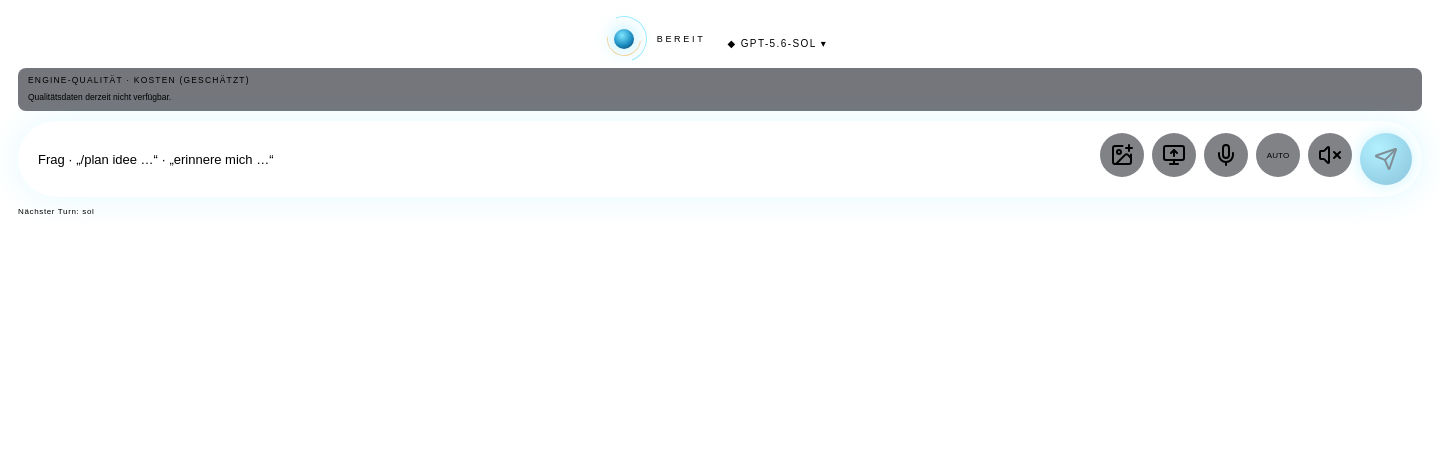
Test case: JarvisChat S3.6 — Vorlese-Toggle (/api/audio/speak) › TTS-Fehler wird best-effort geschluckt — die Antwort-Bubble erscheint trotzdem
The image size is (1440, 472).
Click the button named "Antworten vorlesen". click: click(1330, 155)
box: [1308,133,1352,177]
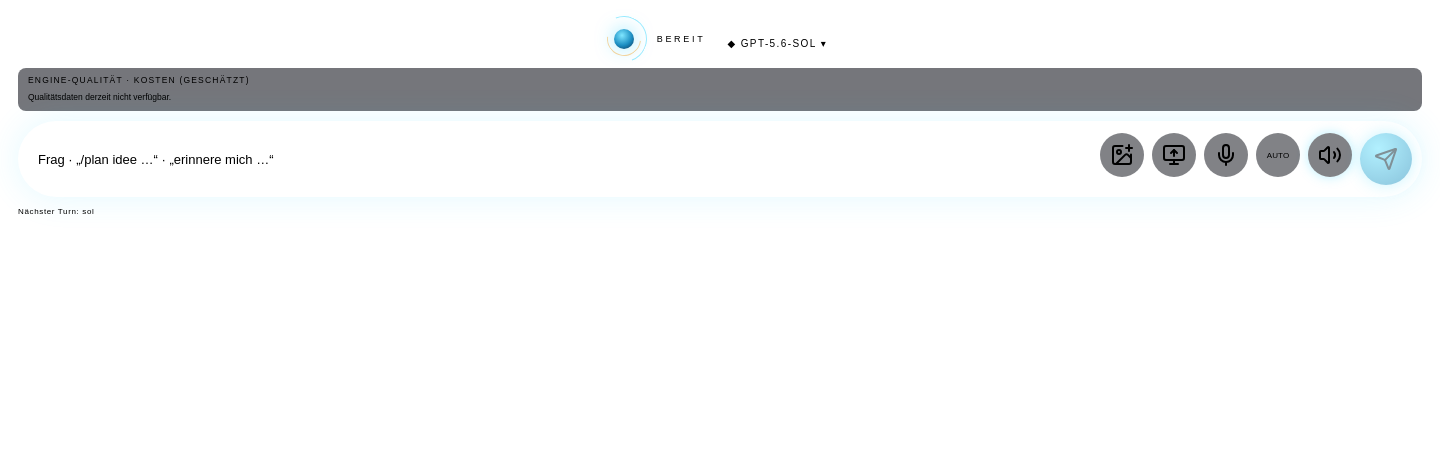
Type "frage" into the field named "Nachricht an Jarvis". click: (564, 159)
box: [38,137,1090,181]
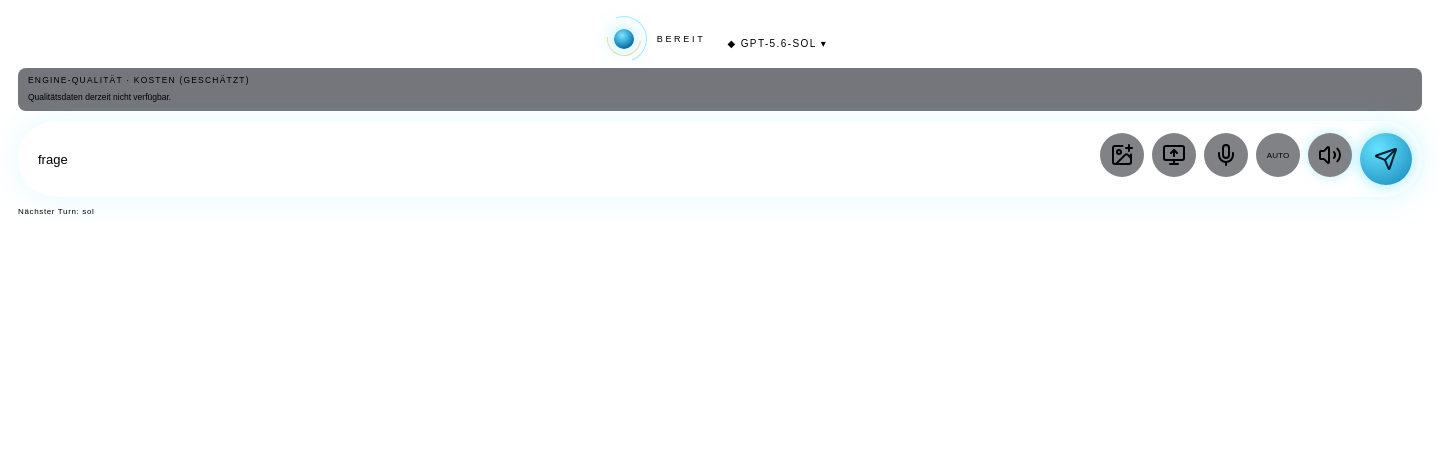
Click the button named "Nachricht senden". click: click(1386, 159)
box: [1360,133,1412,185]
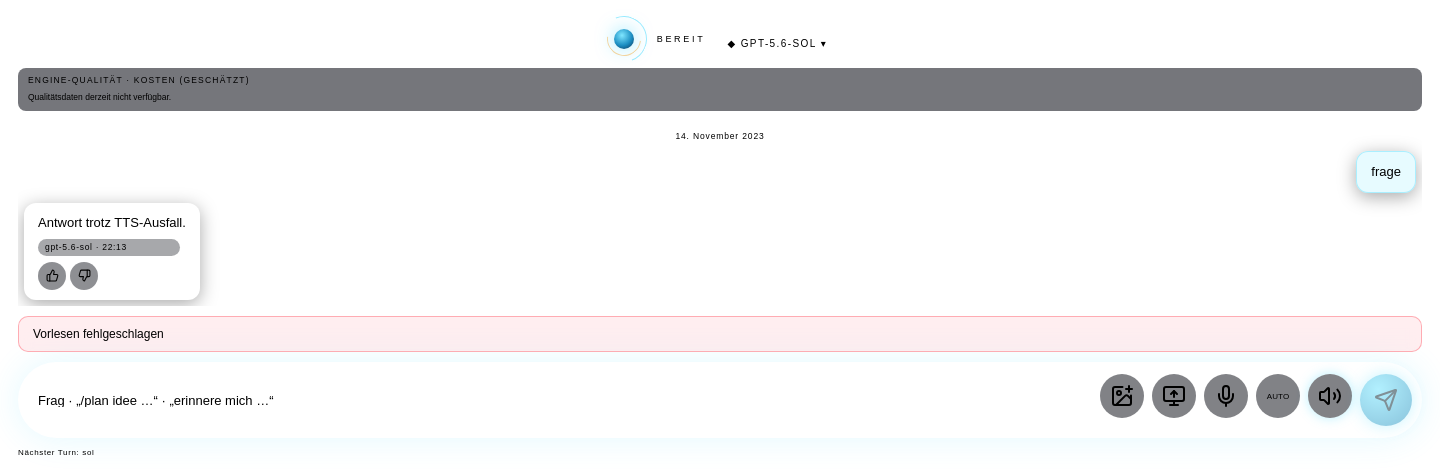
Result: the text "Antwort trotz TTS-Ausfall." is shown at [38,214,186,230]
